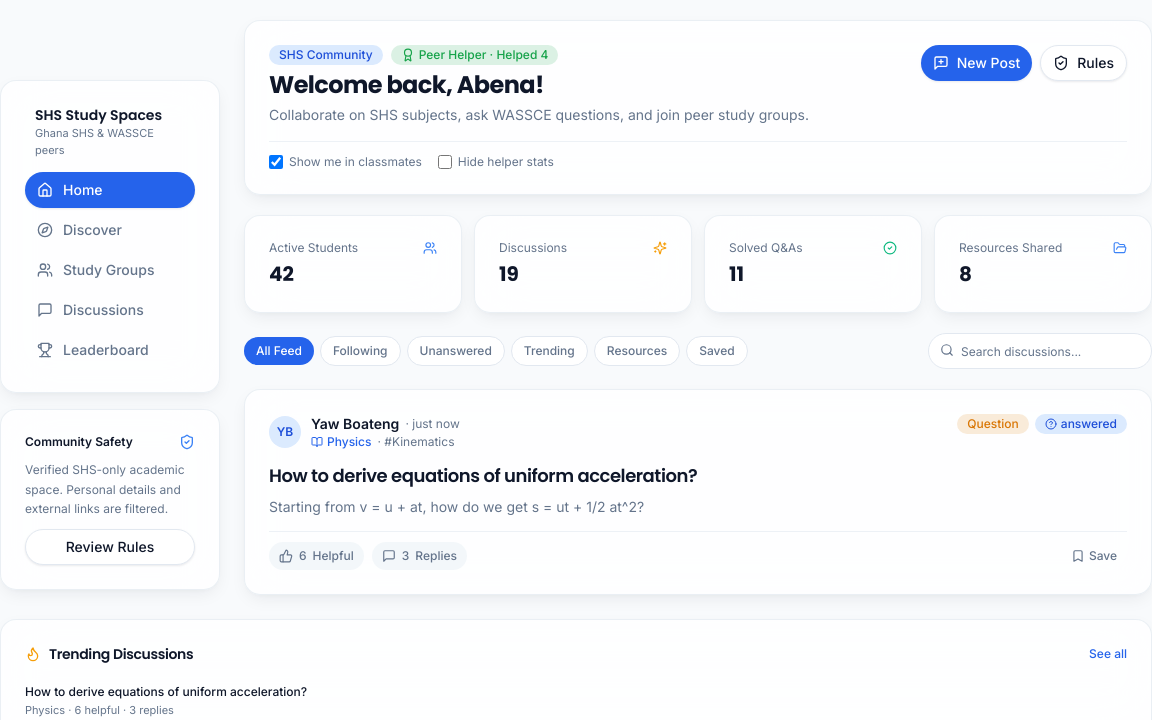
Test: Study Community Dashboard & Sub-pages › renders 3-column Community Home with welcome, stats, feed, right sidebar, and SHS vs University wording
Expected: the heading "Welcome back, Abena!" is shown, [269,68,544,101]
Expected: the text "42" is shown, [269,260,294,288]
# Central feed bookmark interaction
Click the button with aria-label "Save discussion" at (1094,556), box [1061,542,1127,570]
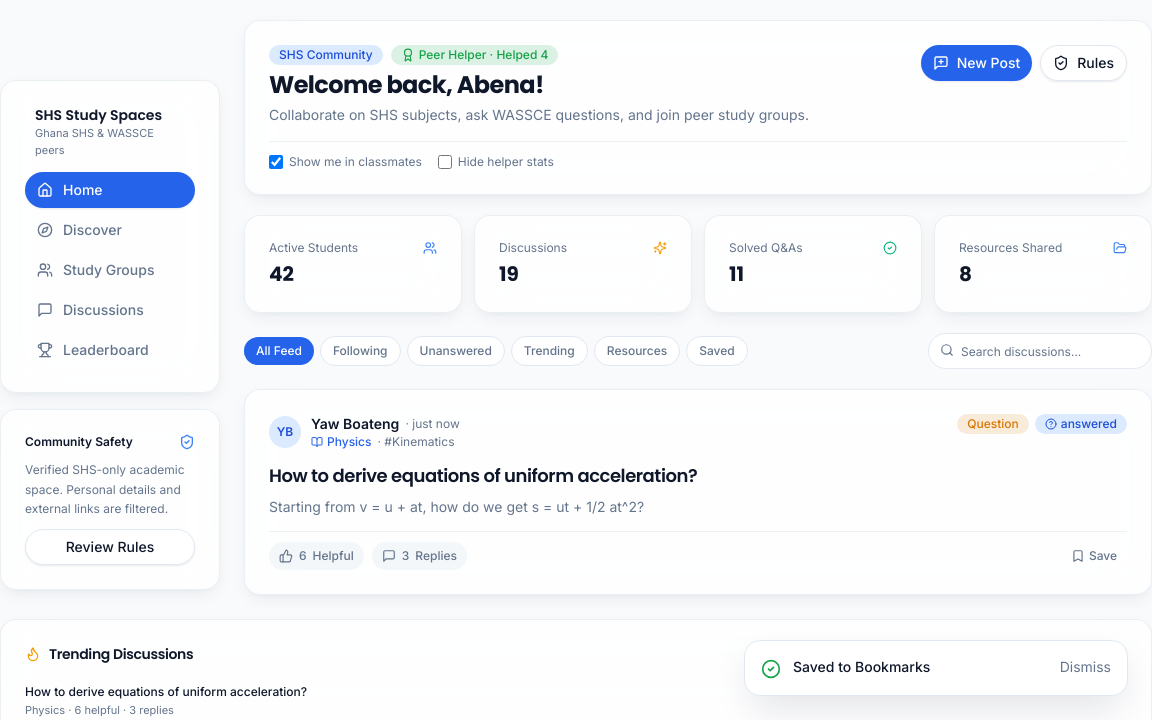
Expected: the text "Saved to Bookmarks" is shown, [793,658,930,675]
